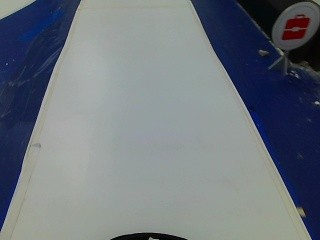company: (273, 1, 317, 52)
